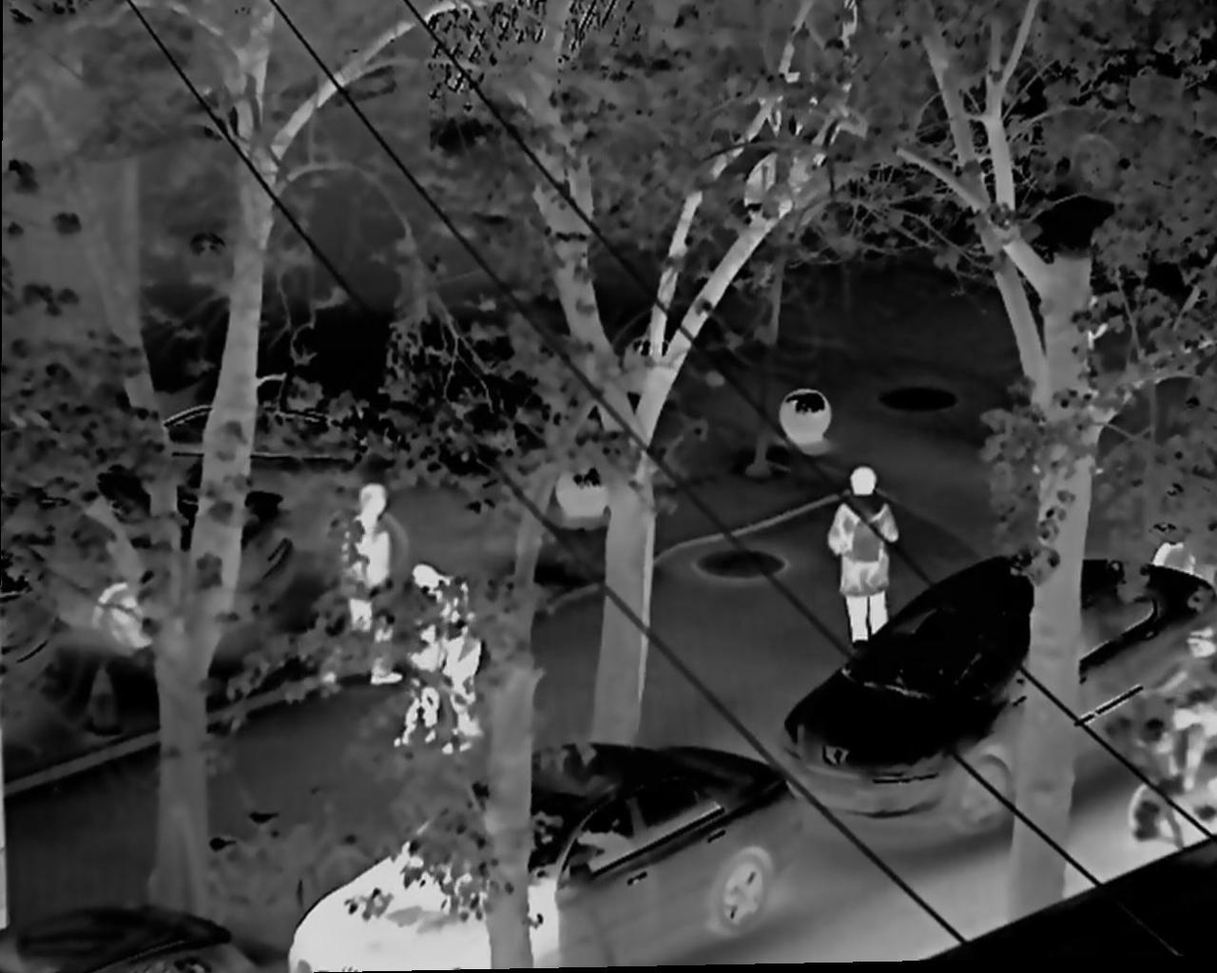person: (337, 474, 412, 696), (828, 467, 903, 646), (395, 562, 445, 746), (444, 572, 489, 756)
